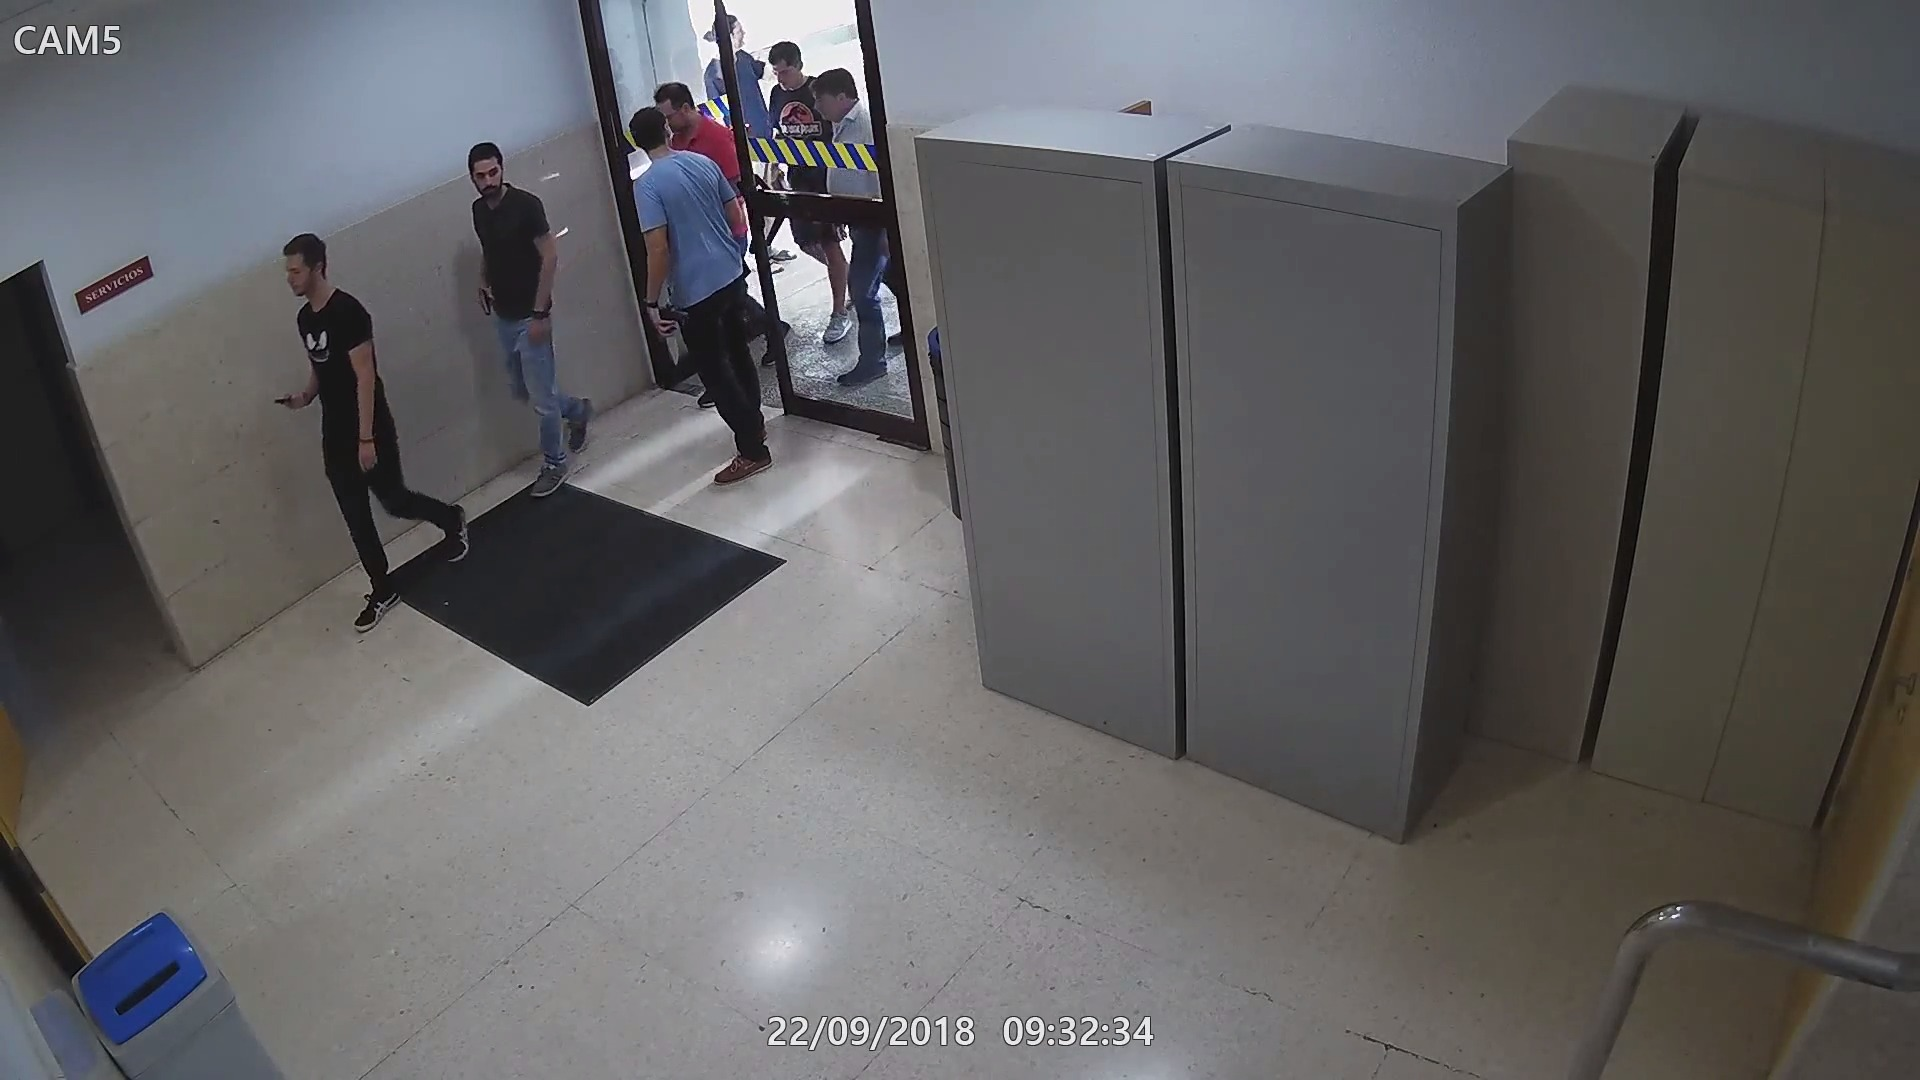Handgun: (646, 297, 690, 335), (265, 386, 318, 413), (473, 284, 501, 322)
Knife: (655, 305, 684, 367)
